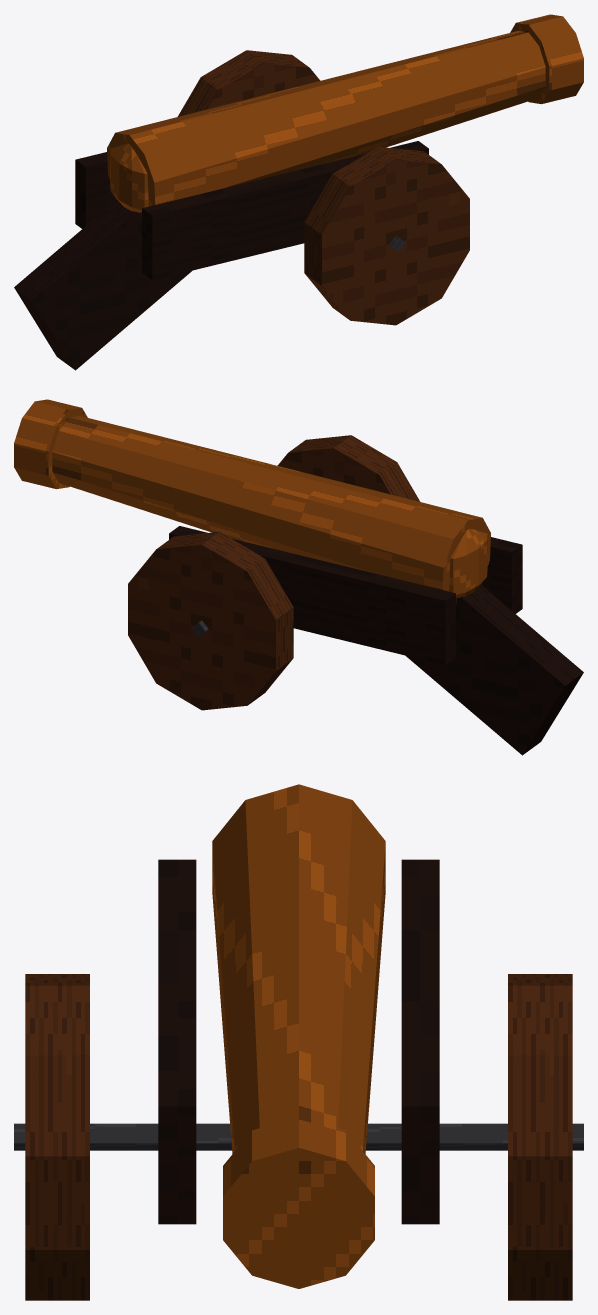
Rendered from canon.glb.
3 renders of one model, top to bottom at view 1: azimuth 30°, elevation 25°; view 2: azimuth 150°, elevation 25°; view 3: azimuth 270°, elevation 25°, orthographic. The views are drawn at different scales.
Parts seen in each view (by area): view 1: canon, rueda_der, cureña, contera, rueda_izq; view 2: canon, rueda_izq, cureña, contera, rueda_der; view 3: canon, cureña, rueda_izq, rueda_der, eje.
Part boxes in pixels (x1,y1,x2,y2): canon: (107,14,583,217); rueda_der: (304,146,469,325); cureña: (75,141,428,280); contera: (14,199,191,370); rueda_izq: (177,50,320,116); canon: (14,399,490,602); rueda_izq: (128,531,293,710); cureña: (169,526,522,665); contera: (406,584,583,755); rueda_der: (277,435,420,501); canon: (212,784,385,1288); cureña: (158,859,439,1224); rueda_izq: (508,974,572,1300); rueda_der: (25,974,89,1300); eje: (14,1123,583,1150).
Bounding box in the file's own units: 3 × 1.2 × 1.5.
1 material, 1 textured.
